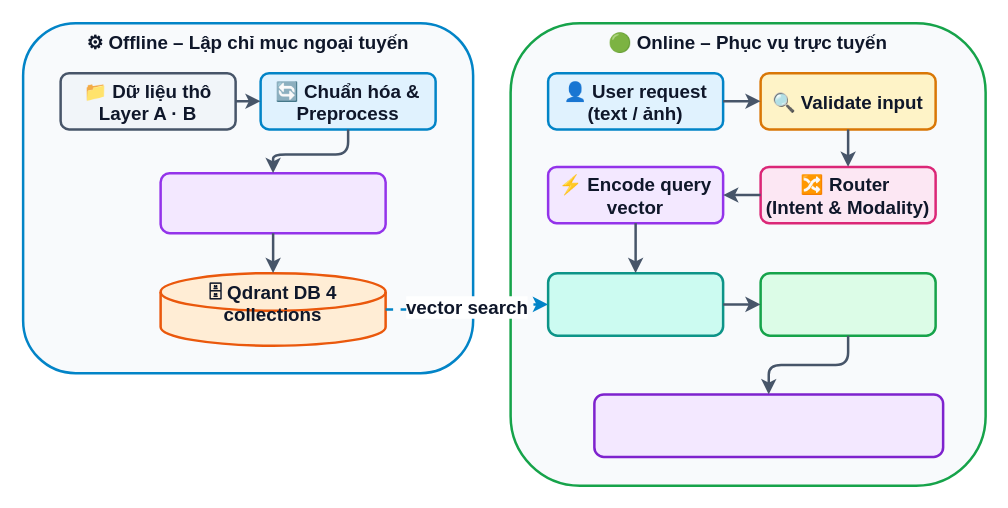
Image size: 1008x508. Some labels were removed from this diagram. The shapes that lost their labels are listed below. From the top down, each one's centre as x and y in pixels, then its label:
At point (272, 202): "⚡ Vector Embedding ViFCLIP / BGE-M3".
At point (635, 303): "🔎 Retrieve + Payload Filter".
At point (847, 303): "🛍 Product card (gửi qua SSE trước)".
At point (768, 425): "🤖 LLM stream + FactFilter & Grounding".
